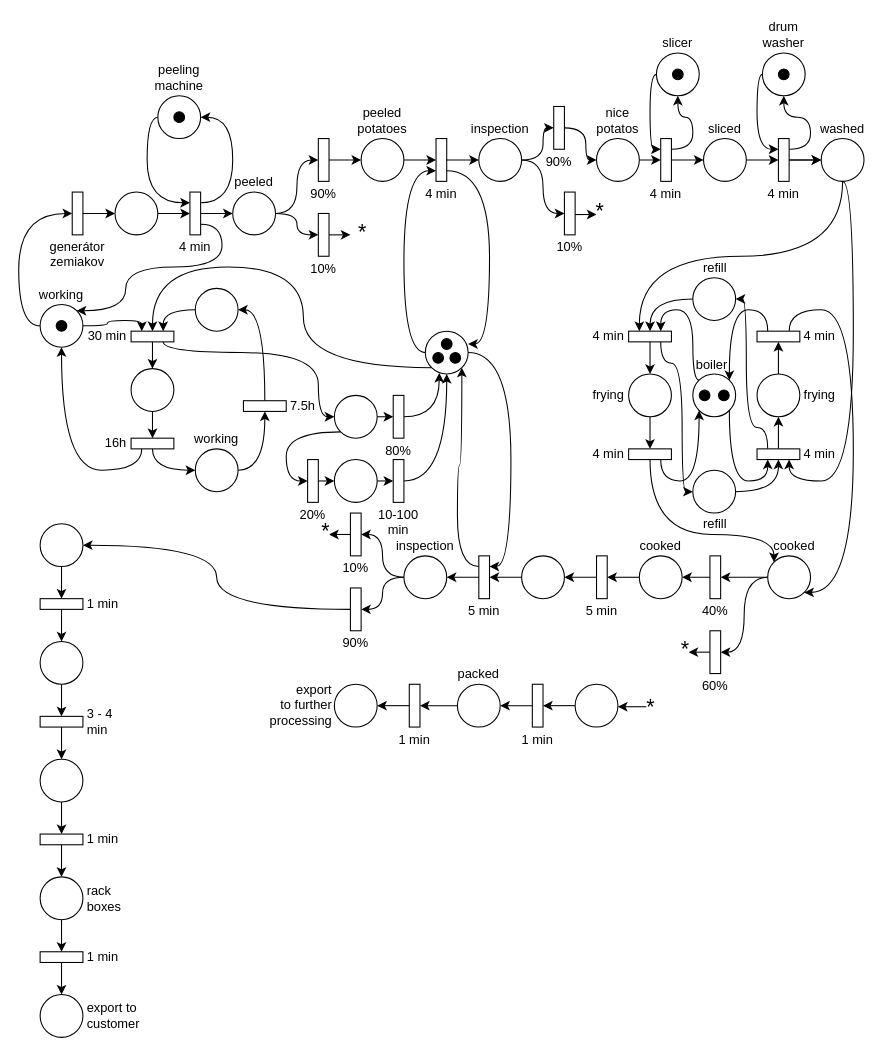
Image size: 883x1056. Some labels were removed from this diagram. The shapes that lost their labels are listed below. From the top down, each one's centre as x and y in pixels, then its label:
point 216,309: standby
point 446,352: workers
point 152,389: maintenance done
point 355,416: maintenance
point 355,480: repair
point 61,545: seasoning platform
point 542,577: drainage belt
point 61,662: add salt
point 596,705: potato pieces
point 61,780: packaging
